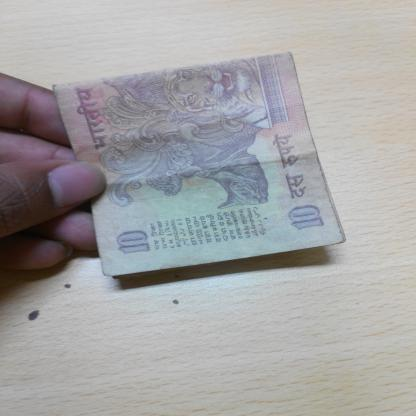Old10Back: (54, 50, 350, 280)
